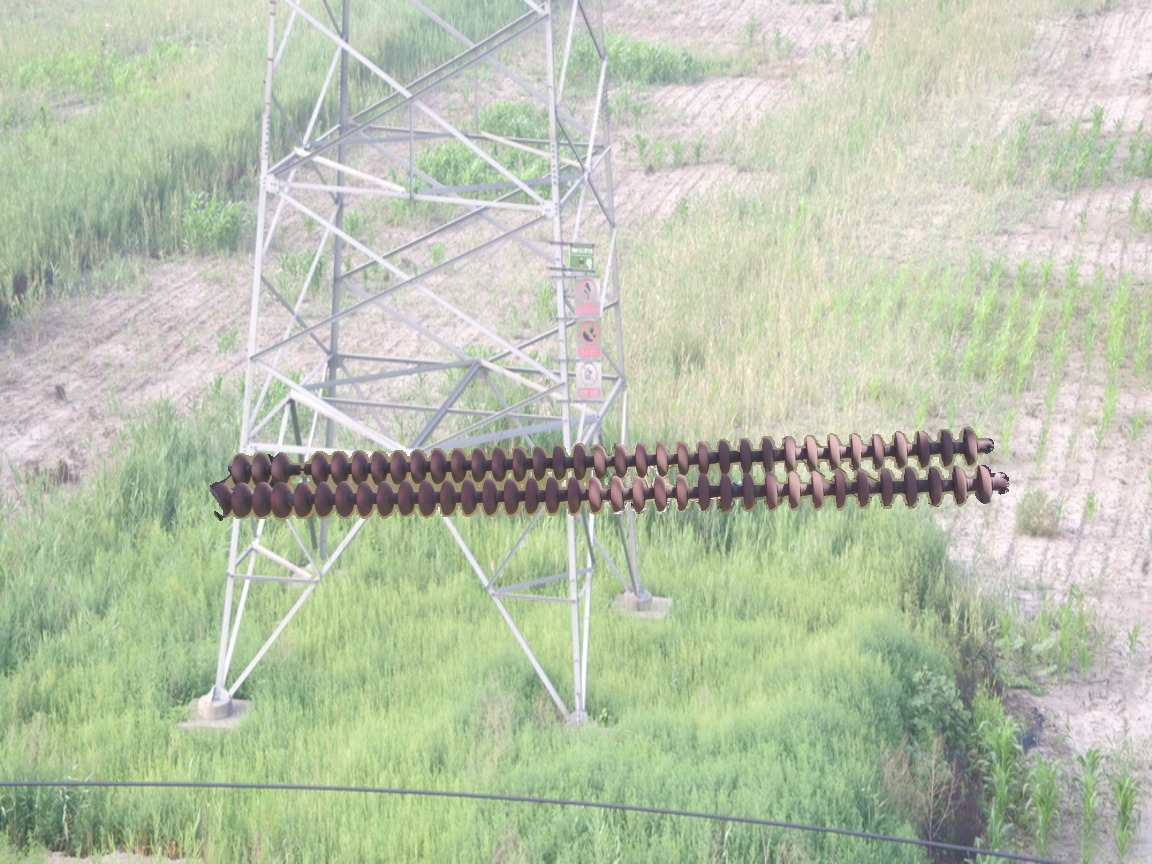defect: (267, 450, 329, 488)
